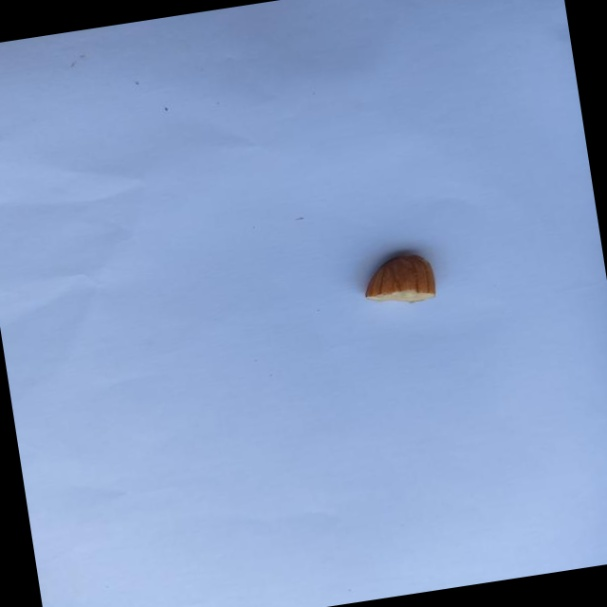grade4: (351, 243, 445, 315)
